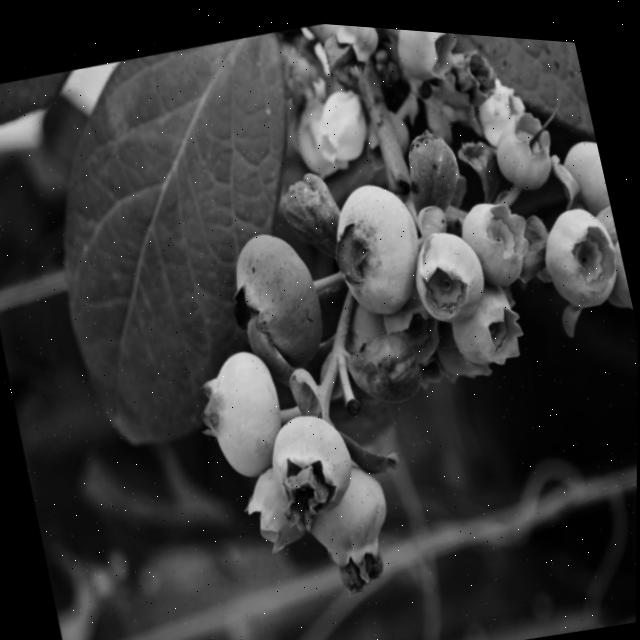RipeBlueBerry: (214, 210, 336, 374)
UnripeBlueBerry: (313, 161, 437, 324), (182, 333, 300, 487), (257, 393, 365, 523), (529, 185, 633, 316)
